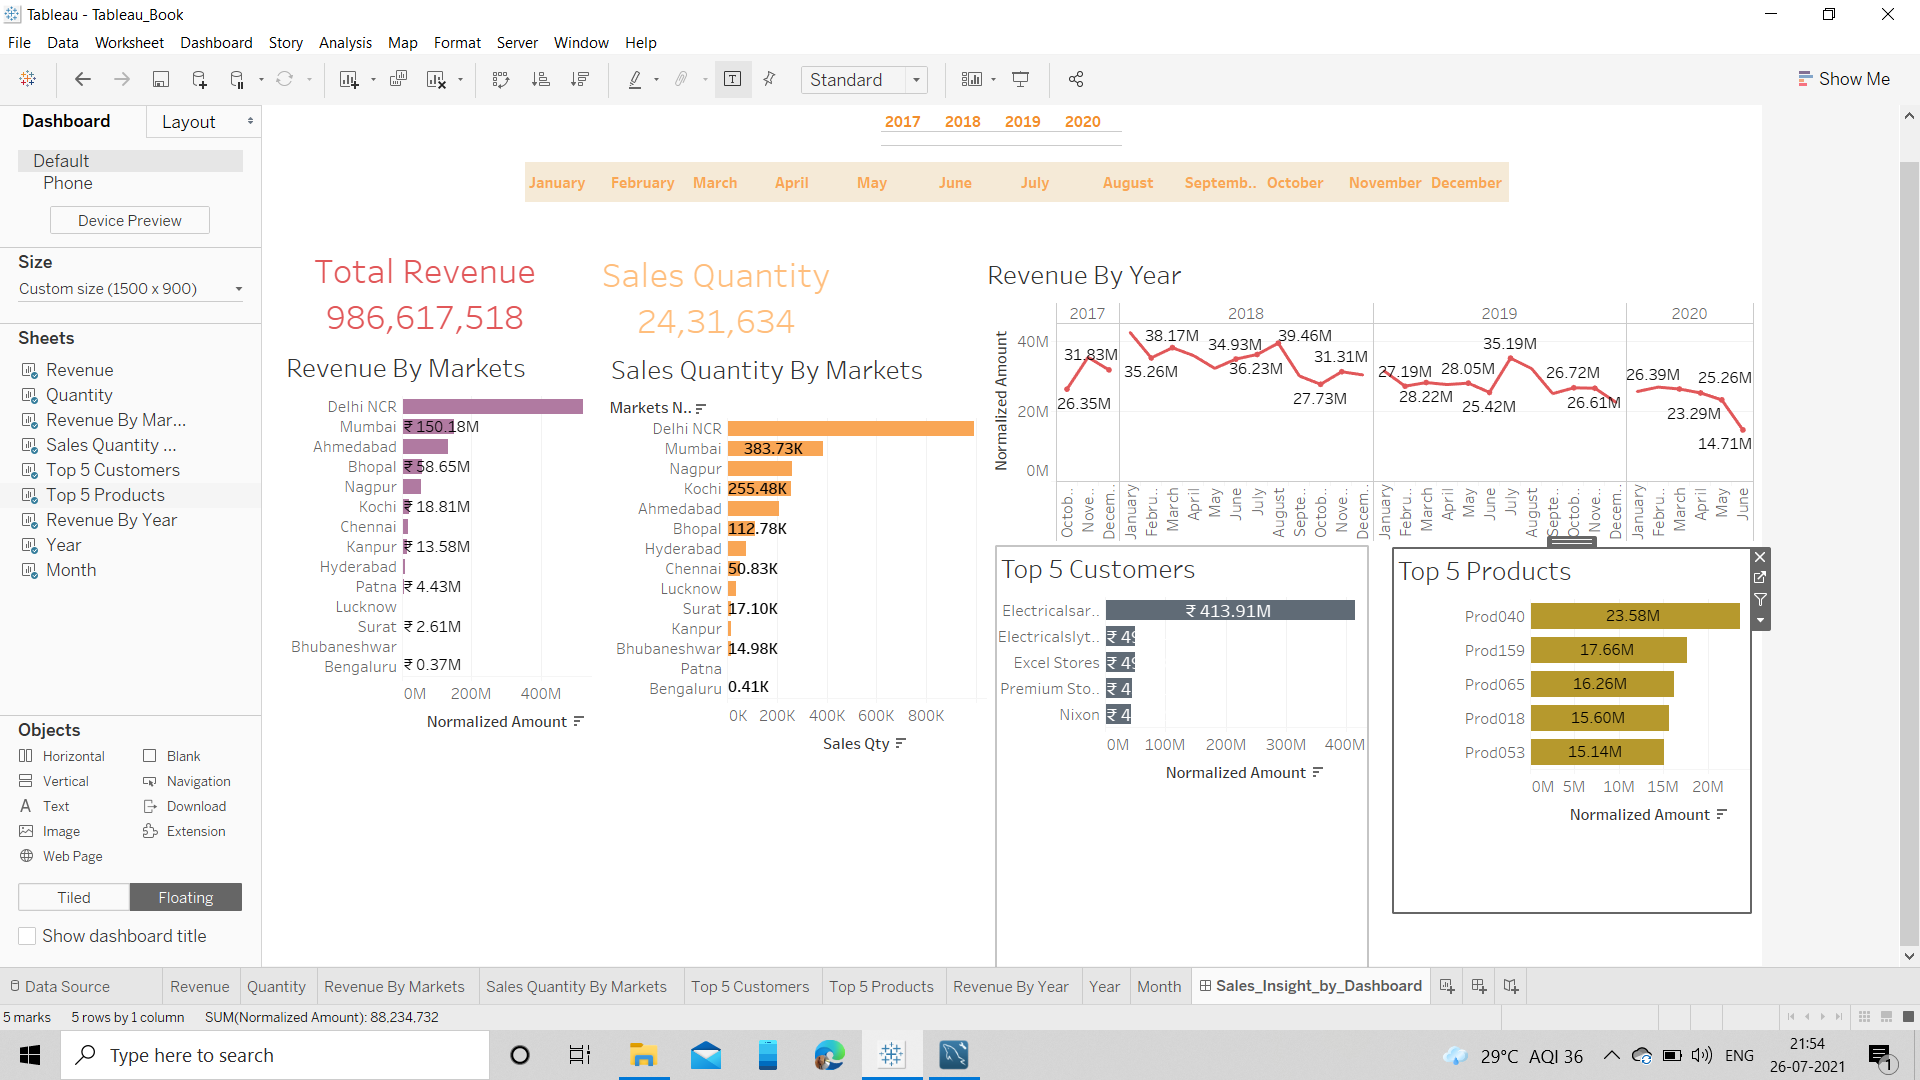

The page's visual inventory and layout, read from the dashboard file:
{"tool":"tableau","page":{"name":"Sales_Insight_by_Dashboard","canvas":[1500,900],"ordinal":0},"visuals":[{"type":"worksheet","title":"Year","mark":"Automatic","cols":["cy_date"],"box":[619,45,288,75]},{"type":"worksheet","title":"Month","mark":"Automatic","cols":["cy_date"],"box":[263,96,1125,40]},{"type":"worksheet","title":"Revenue","mark":"Automatic","box":[43,181,315,148]},{"type":"worksheet","title":"Quantity","mark":"Automatic","box":[334,185,282,111]},{"type":"worksheet","title":"Revenue By Year","mark":"Automatic","rows":["Calculation_723672233432571904"],"cols":["cy_date","cy_date"],"box":[721,187,771,289]},{"type":"worksheet","title":"Revenue By Markets","mark":"Automatic","rows":["markets_name"],"cols":["Calculation_723672233432571904"],"box":[20,280,310,574]},{"type":"worksheet","title":"Sales Quantity By Markets","mark":"Automatic","rows":["markets_name"],"cols":["sales_qty"],"box":[345,282,394,552]},{"type":"worksheet","title":"Top 5 Products","mark":"Automatic","rows":["product_code (products)"],"cols":["Calculation_723672233432571904"],"box":[1132,483,356,363]}]}

Visuals, with their boxes on the page's 1500x900 design canvas (x1, y1, x2, y2). These are canvas units, not pixel positions in the 1920x1080 screenshot, which may show the page scaled, cropped or inside an application window:
"Year" worksheet: 619,45,907,120
"Month" worksheet: 263,96,1388,136
"Revenue" worksheet: 43,181,358,329
"Quantity" worksheet: 334,185,616,296
"Revenue By Year" worksheet: 721,187,1492,476
"Revenue By Markets" worksheet: 20,280,330,854
"Sales Quantity By Markets" worksheet: 345,282,739,834
"Top 5 Products" worksheet: 1132,483,1488,846
